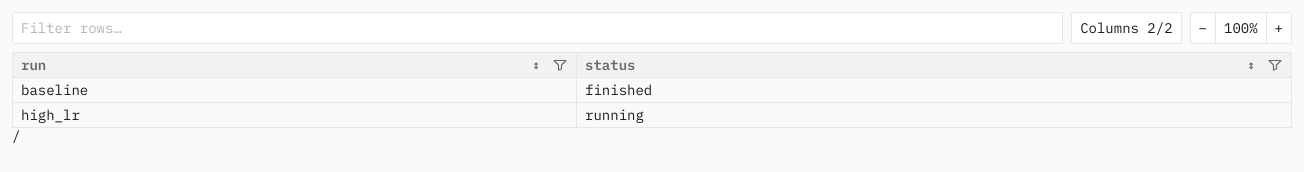
it: TableView › filters rows and stores the table-local query in the URL
The width and height of the screenshot is (1304, 172).
Type "status=finished" into the field named "Filter rows in runs". click: (538, 28)
box: [12, 12, 1063, 44]
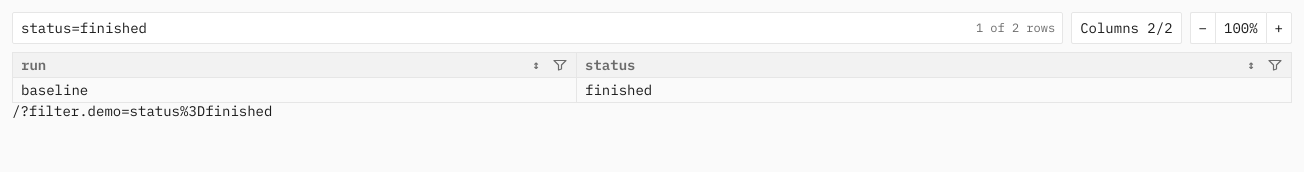
Check: the text "baseline" is shown, box [21, 81, 88, 99]
Check: the text "high_lr" is gone
Check: the text with test id "loc" shows "filter.demo=status%3Dfinished", box [12, 102, 272, 120]
